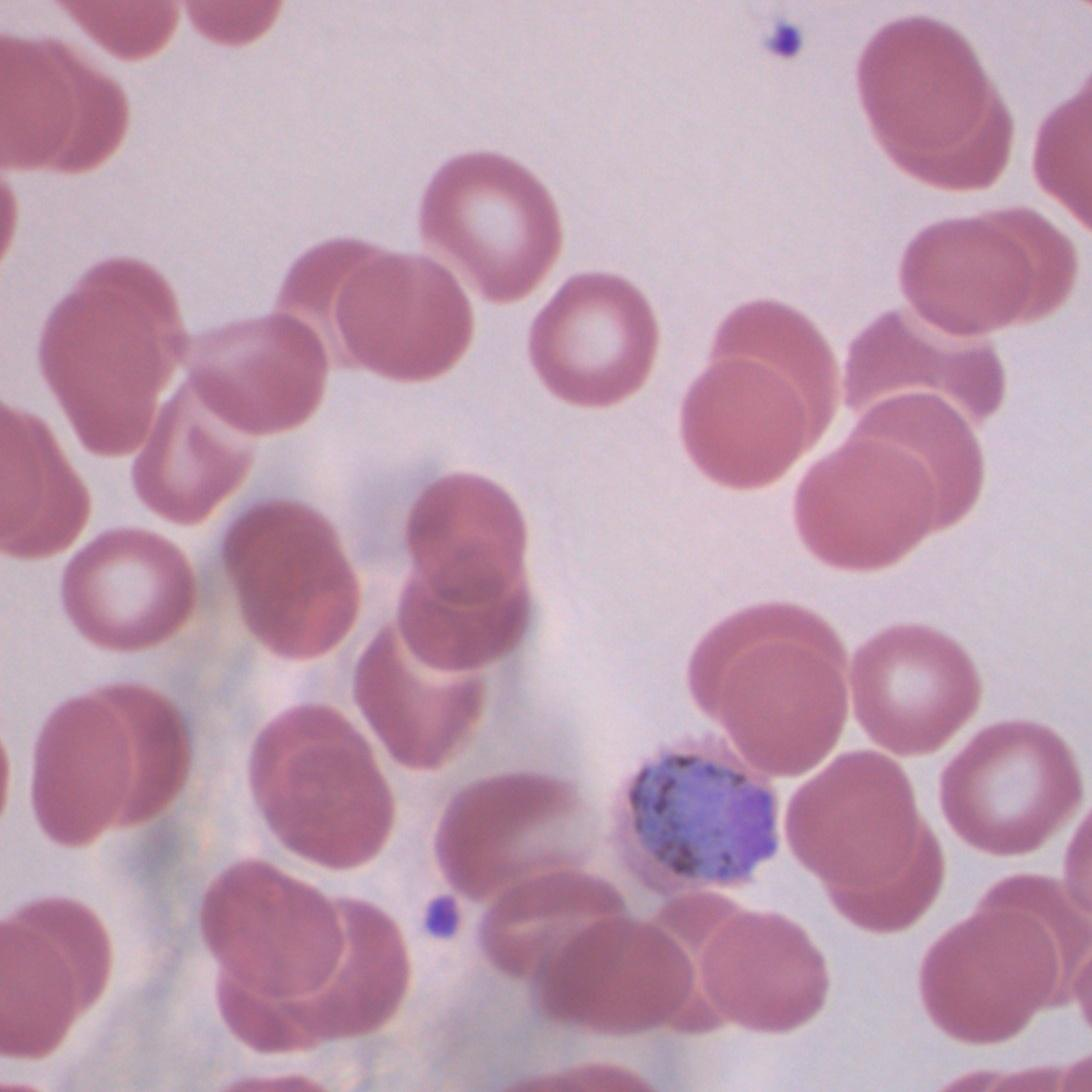Infected: (597, 736, 775, 922)
Uninfected: (248, 703, 397, 871), (31, 684, 185, 846), (840, 301, 997, 449), (222, 497, 362, 662), (193, 866, 348, 1010), (422, 148, 562, 307), (40, 283, 163, 459), (780, 748, 923, 894), (926, 897, 1067, 1041), (712, 296, 840, 454), (704, 628, 843, 773), (434, 771, 587, 902), (858, 14, 995, 157), (857, 386, 987, 535), (354, 624, 486, 769), (525, 273, 663, 410), (330, 250, 473, 381), (939, 720, 1078, 854), (800, 433, 933, 572), (284, 898, 407, 1044), (541, 914, 692, 1032), (470, 864, 626, 978), (900, 205, 1030, 340), (848, 623, 975, 757), (59, 530, 193, 655), (197, 313, 329, 438), (0, 900, 105, 1054), (697, 908, 824, 1034), (680, 358, 798, 489), (130, 395, 247, 526), (396, 563, 527, 676), (815, 823, 943, 935), (407, 472, 524, 583), (280, 239, 388, 350)
